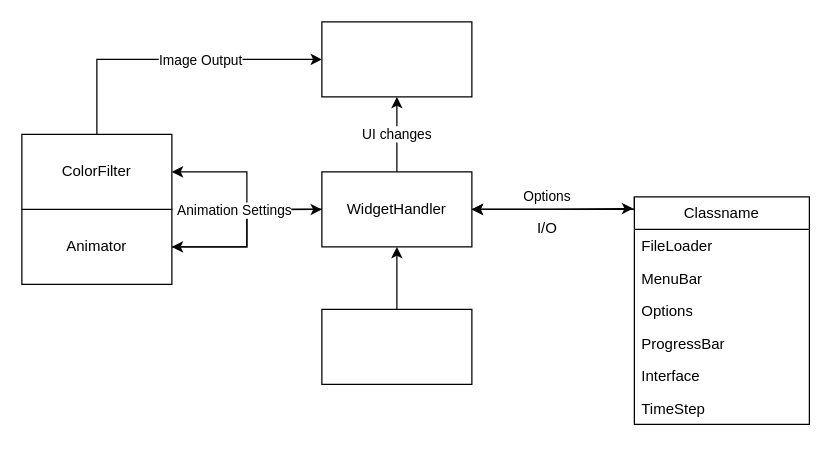
This 831x450 diagram has some shape labels left out. The shapes that lost their labels are listed below. From the top down, each one's centre as x and y in pixels, then its label:
At point 396,59: "CanvasWidget".
At point 396,346: "Main".
